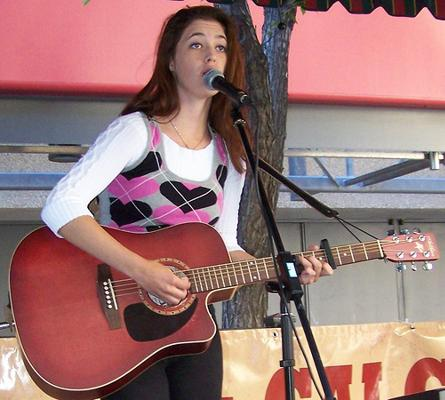person: (41, 5, 333, 397)
